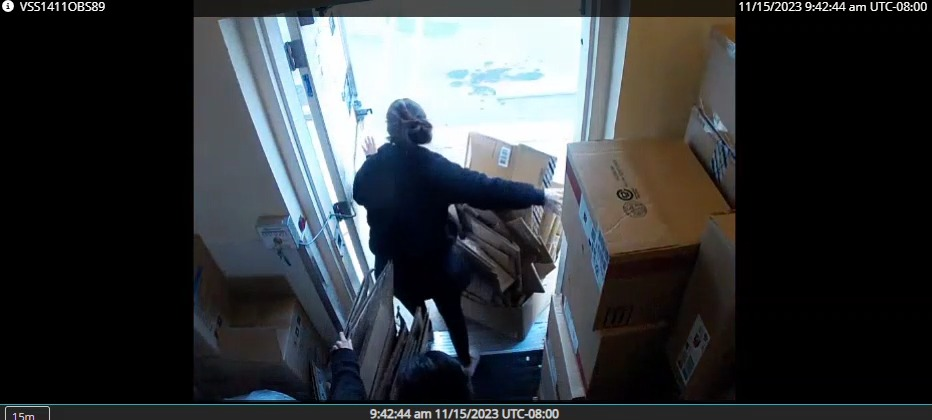No-gloves: (545, 181, 581, 216), (355, 131, 382, 162)
